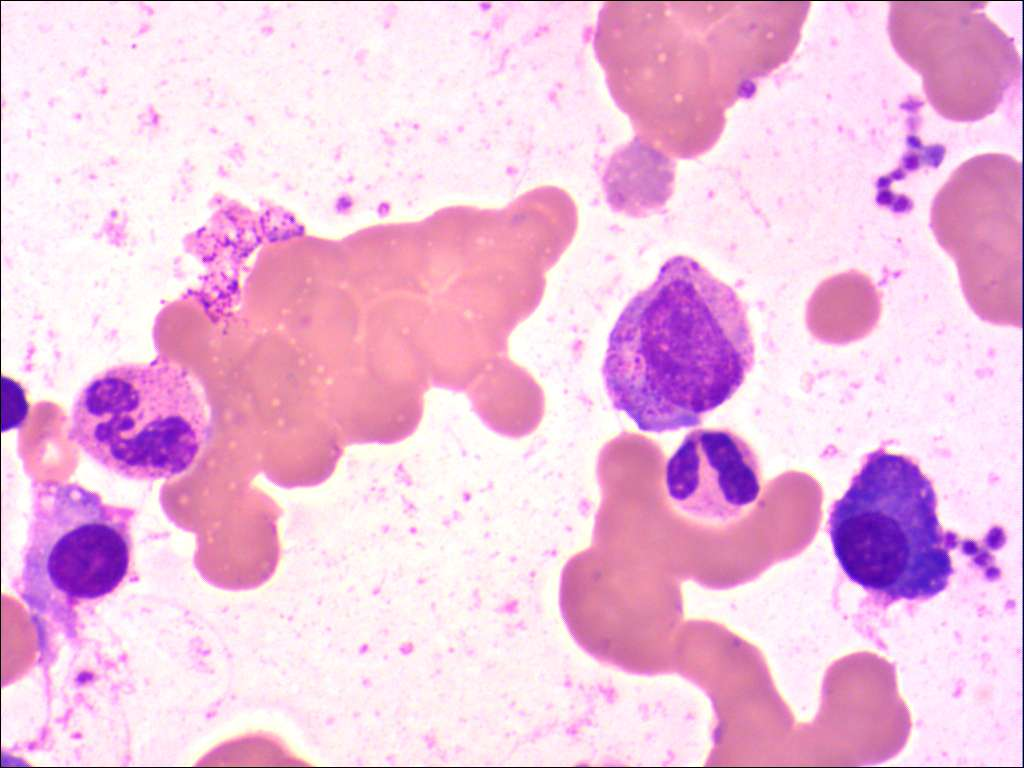3: (598, 253, 758, 438)
51: (16, 477, 140, 624)
52: (823, 443, 957, 605)
6: (64, 359, 211, 485), (661, 424, 765, 525)
x: (1, 373, 32, 438)
